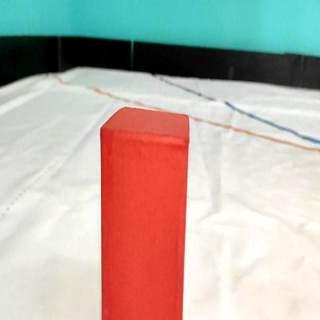redbox: (99, 104, 190, 320)
